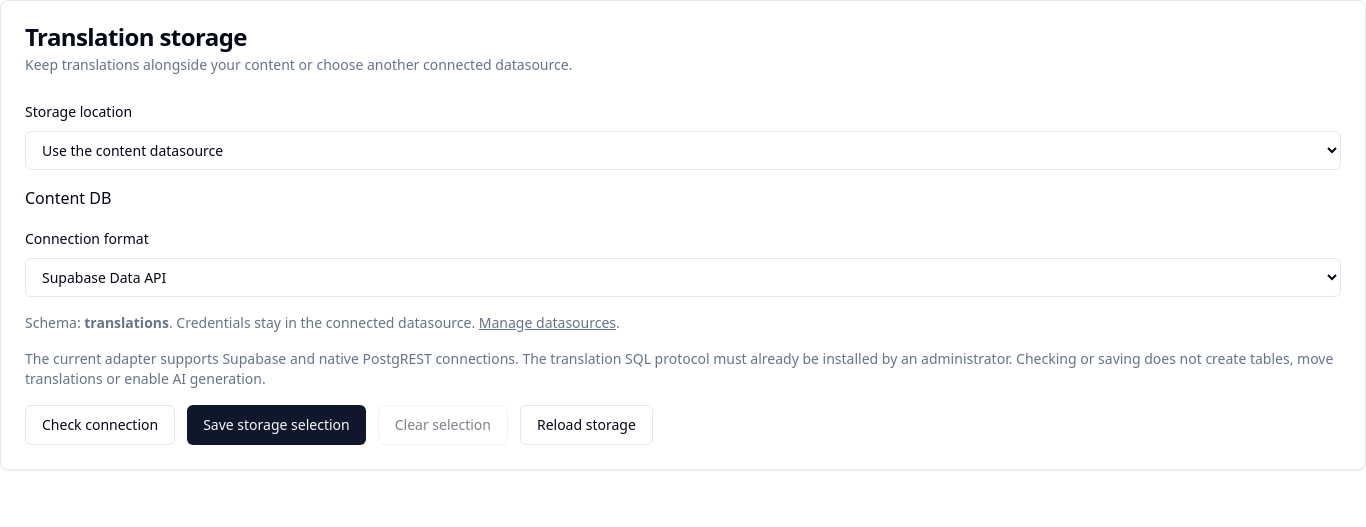
Scenario: Translation storage settings › renders a safe failed check without echoing provider details
The width and height of the screenshot is (1366, 527).
Expected: the text "Content DB" is shown, [25,187,111,209]
Click the button "Check connection": (100, 425) [25,405,175,445]
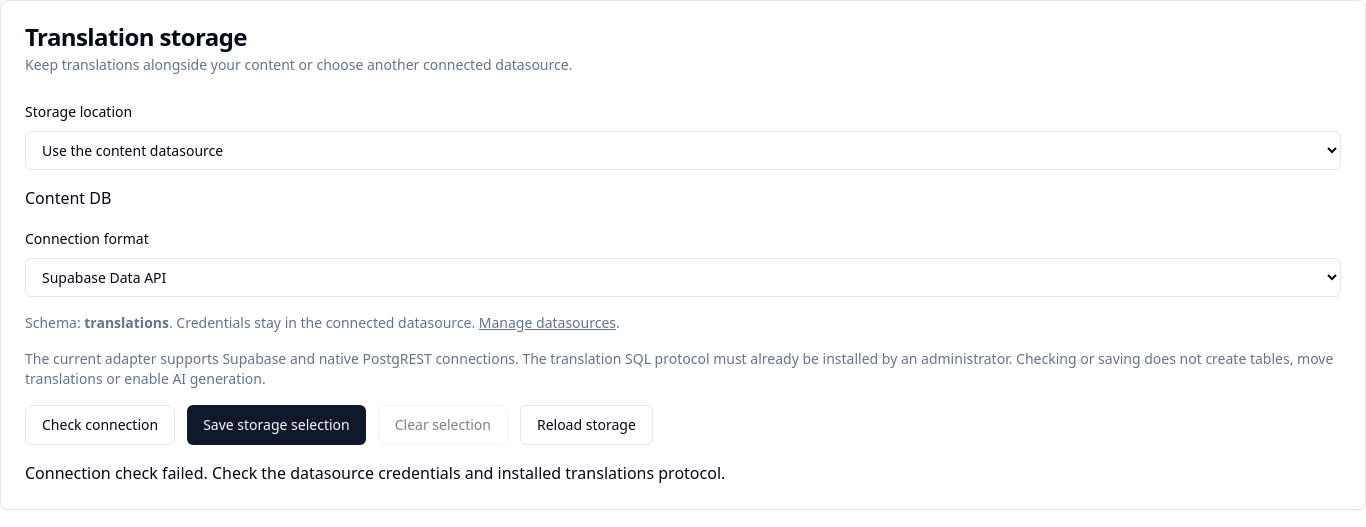
Expected: the button "Save storage selection" is enabled, [187,405,366,445]
Expected: the text "Connection check failed" is shown, [25,462,725,484]
